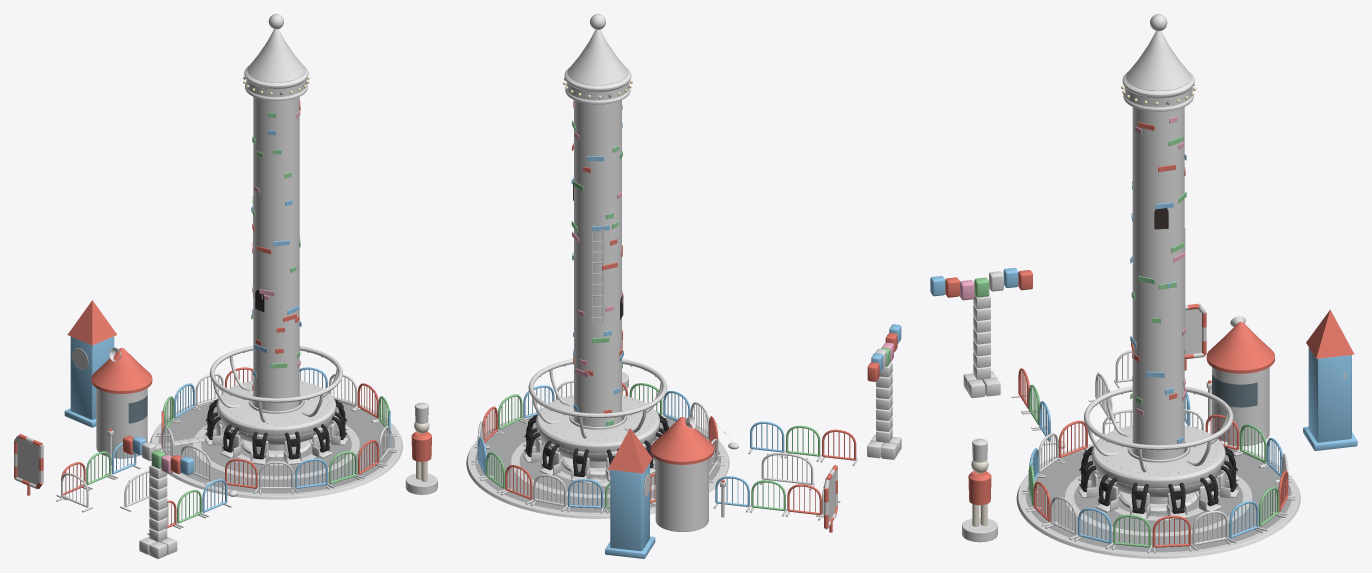
3 views of the same model, side by side, from view 1: azimuth 30°, elevation 25°; view 2: azimuth 150°, elevation 25°; view 3: azimuth 270°, elevation 25° (orthographic). The views are drawn at different scales.
Parts seen in each view (by area): view 1: MI42_Static_EOS_ToyBrickYellow, MI42_Static_EOS_TreadPlate, MI42_Static_EOS_BlockRed, MI42_Static_EOS_PaintYellow, MI42_Static_EOS_BlockLightBlue, MI42_Static_EOS_ToyBlue, Eos_Gondola_Collar, MI42_Static_EOS_RimYellow, MI42_Static_EOS_BlockGreen, MI42_Static_EOS_BoothCream, Eos_Gondola_Hoop, Eos_Gondola_Seats (+2 smaller); view 2: MI42_Static_EOS_ToyBrickYellow, MI42_Static_EOS_BlockLightBlue, MI42_Static_EOS_BlockRed, MI42_Static_EOS_TreadPlate, MI42_Static_EOS_ToyBlue, MI42_Static_EOS_PaintYellow, MI42_Static_EOS_BoothCream, Eos_Gondola_Collar, MI42_Static_EOS_BlockGreen, MI42_Static_EOS_RimYellow, Eos_Gondola_Hoop, Eos_Gondola_Seats (+1 smaller); view 3: MI42_Static_EOS_ToyBrickYellow, MI42_Static_EOS_TreadPlate, MI42_Static_EOS_BlockRed, MI42_Static_EOS_BlockLightBlue, MI42_Static_EOS_ToyBlue, MI42_Static_EOS_PaintYellow, Eos_Gondola_Collar, MI42_Static_EOS_RimYellow, MI42_Static_EOS_BlockGreen, MI42_Static_EOS_BoothCream, Eos_Gondola_Hoop, Eos_Gondola_Seats (+6 smaller).
Part boxes in pixels (x1,y1,x2,y2): MI42_Static_EOS_ToyBrickYellow: (253, 97, 299, 411); MI42_Static_EOS_TreadPlate: (158, 402, 394, 493); MI42_Static_EOS_BlockRed: (14, 100, 431, 528); MI42_Static_EOS_PaintYellow: (14, 347, 390, 541); MI42_Static_EOS_BlockLightBlue: (64, 130, 391, 512); MI42_Static_EOS_ToyBlue: (139, 29, 437, 558); Eos_Gondola_Collar: (216, 380, 336, 436); MI42_Static_EOS_RimYellow: (150, 396, 402, 499); MI42_Static_EOS_BlockGreen: (86, 112, 389, 523); MI42_Static_EOS_BoothCream: (96, 388, 147, 458); Eos_Gondola_Hoop: (209, 346, 342, 422); Eos_Gondola_Seats: (204, 415, 348, 464); MI42_Static_EOS_ToyBrickYellow: (574, 100, 621, 426); MI42_Static_EOS_BlockLightBlue: (477, 123, 901, 558); MI42_Static_EOS_BlockRed: (482, 143, 897, 532); MI42_Static_EOS_TreadPlate: (475, 418, 720, 512); MI42_Static_EOS_ToyBlue: (564, 30, 901, 459); MI42_Static_EOS_PaintYellow: (477, 349, 892, 529); MI42_Static_EOS_BoothCream: (655, 459, 708, 531); Eos_Gondola_Collar: (536, 395, 659, 453); MI42_Static_EOS_BlockGreen: (486, 105, 890, 511); MI42_Static_EOS_RimYellow: (466, 412, 729, 518); Eos_Gondola_Hoop: (528, 359, 667, 438); Eos_Gondola_Seats: (523, 423, 662, 482); MI42_Static_EOS_ToyBrickYellow: (1132, 107, 1184, 459); MI42_Static_EOS_TreadPlate: (1026, 450, 1291, 552); MI42_Static_EOS_BlockRed: (945, 122, 1354, 547); MI42_Static_EOS_BlockLightBlue: (930, 154, 1357, 543); MI42_Static_EOS_ToyBlue: (962, 31, 1194, 542); MI42_Static_EOS_PaintYellow: (973, 271, 1288, 545); Eos_Gondola_Collar: (1091, 425, 1225, 487); MI42_Static_EOS_RimYellow: (1016, 439, 1300, 558); MI42_Static_EOS_BlockGreen: (974, 136, 1279, 547); MI42_Static_EOS_BoothCream: (1212, 367, 1269, 446); Eos_Gondola_Hoop: (1084, 386, 1233, 472); Eos_Gondola_Seats: (1078, 455, 1239, 519).
Size of the model in its own units: 12.63 by 14.82 by 11.85.
